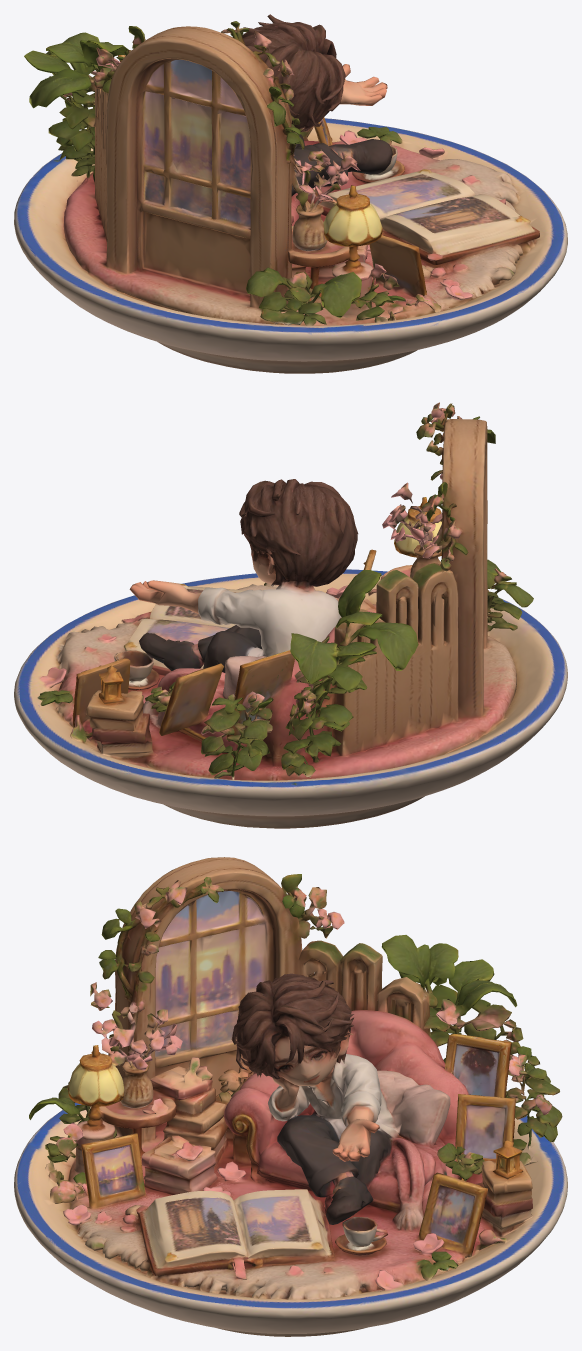
Rendered from h3-otome.glb.
3 views of the same model, one above another, from view 1: azimuth 30°, elevation 25°; view 2: azimuth 150°, elevation 25°; view 3: azimuth 270°, elevation 25° (orthographic).
Parts seen in each view (by area): view 1: tripo_node_37cf08eb-92a8-44ff-b169-6b39a56a4cf3; view 2: tripo_node_37cf08eb-92a8-44ff-b169-6b39a56a4cf3; view 3: tripo_node_37cf08eb-92a8-44ff-b169-6b39a56a4cf3.
Part boxes in pixels (x1,y1,x2,y2): tripo_node_37cf08eb-92a8-44ff-b169-6b39a56a4cf3: (14,14,567,373); tripo_node_37cf08eb-92a8-44ff-b169-6b39a56a4cf3: (14,402,567,828); tripo_node_37cf08eb-92a8-44ff-b169-6b39a56a4cf3: (14,857,567,1336).
Bounding box in the file's own units: 0.998 × 0.6893 × 1.
Materials: 1 (1 with a texture image).
